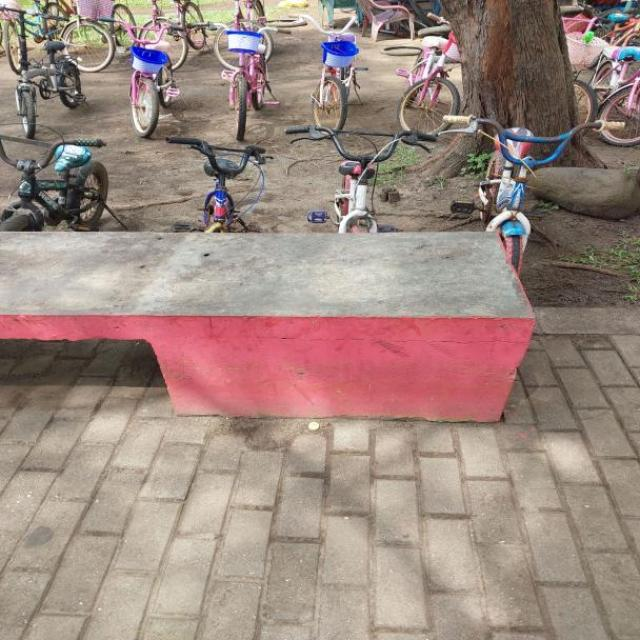bicycle ahead at: (455, 101, 603, 277), (204, 16, 298, 139), (2, 23, 100, 131), (111, 17, 198, 128), (302, 18, 373, 127)
